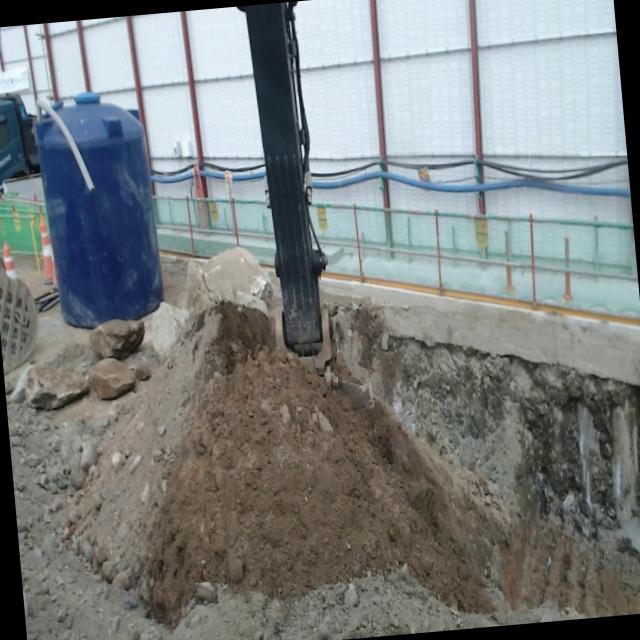red-sand: (53, 301, 640, 626)
stone: (179, 246, 280, 315), (26, 343, 95, 410), (89, 319, 144, 359), (152, 302, 188, 356), (89, 358, 136, 399)
white-sand: (5, 396, 580, 640)
